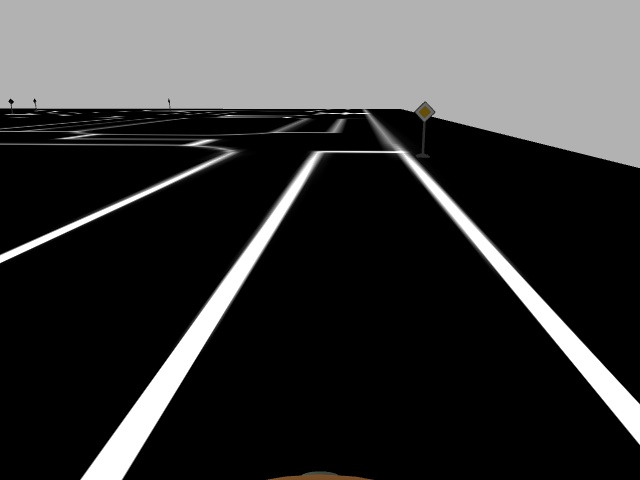priority: (414, 100, 436, 123)
